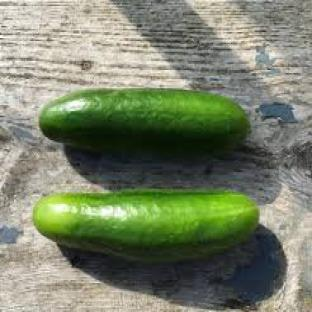Cucumber: (33, 189, 258, 261), (40, 89, 249, 155)
